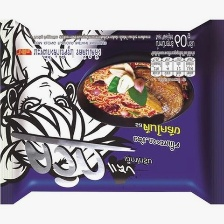snack: (0, 13, 224, 212)
